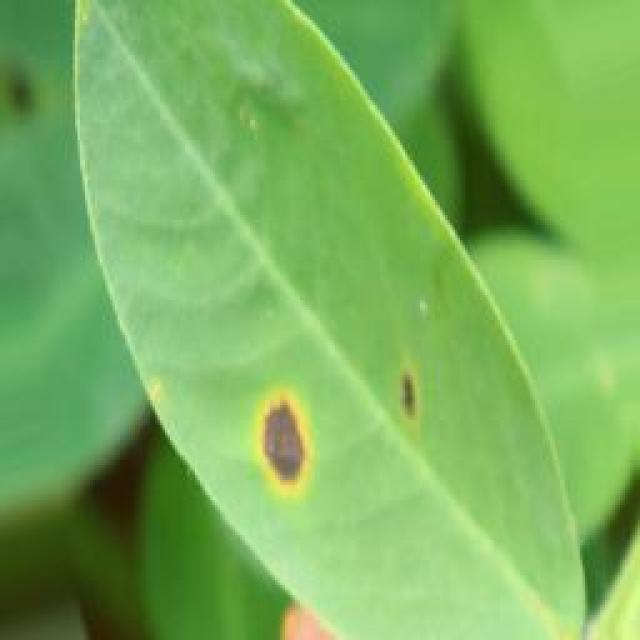Early_leaf_spot: (242, 374, 342, 507), (364, 346, 434, 450)
